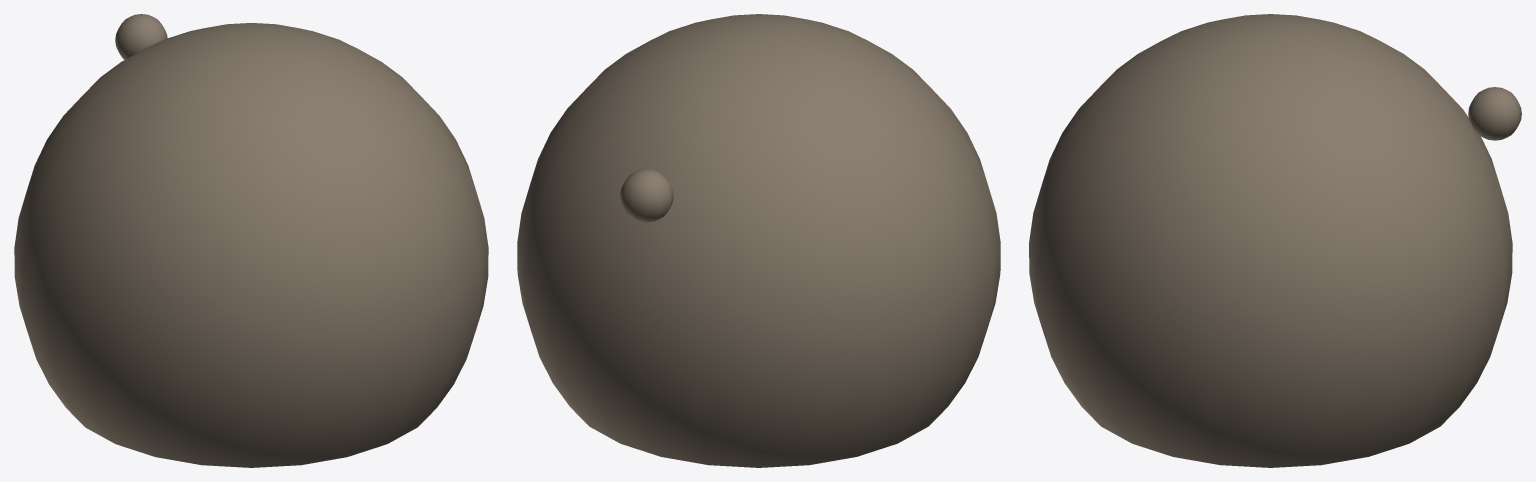
The model's file is bun.glb.
3 views of the same model, side by side, from view 1: azimuth 30°, elevation 25°; view 2: azimuth 150°, elevation 25°; view 3: azimuth 270°, elevation 25° (orthographic).
Parts seen in each view (by area): view 1: Hair_bun; view 2: Hair_bun; view 3: Hair_bun.
Boxes of the visible parts, left/top/right/bottom form: Hair_bun: left=14, top=14, right=488, bottom=467; Hair_bun: left=517, top=14, right=1000, bottom=467; Hair_bun: left=1029, top=14, right=1521, bottom=467.
Size of the model in its own units: 2.16 by 1.71 by 2.2.
